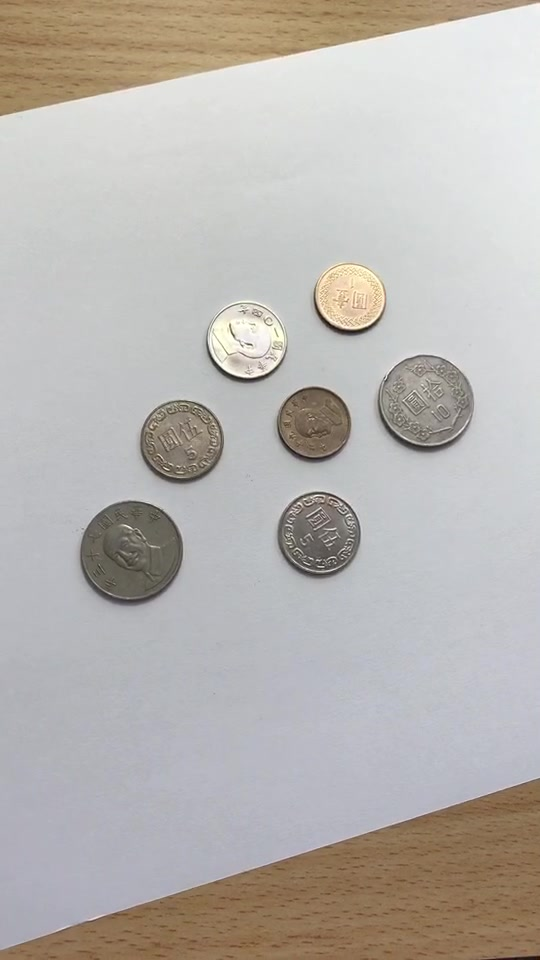1 dallar: (308, 254, 395, 339), (270, 381, 357, 466)
10 dallar: (72, 494, 190, 608), (368, 344, 486, 458)
5 dallar: (130, 392, 230, 496), (192, 281, 292, 385), (269, 480, 369, 584)
